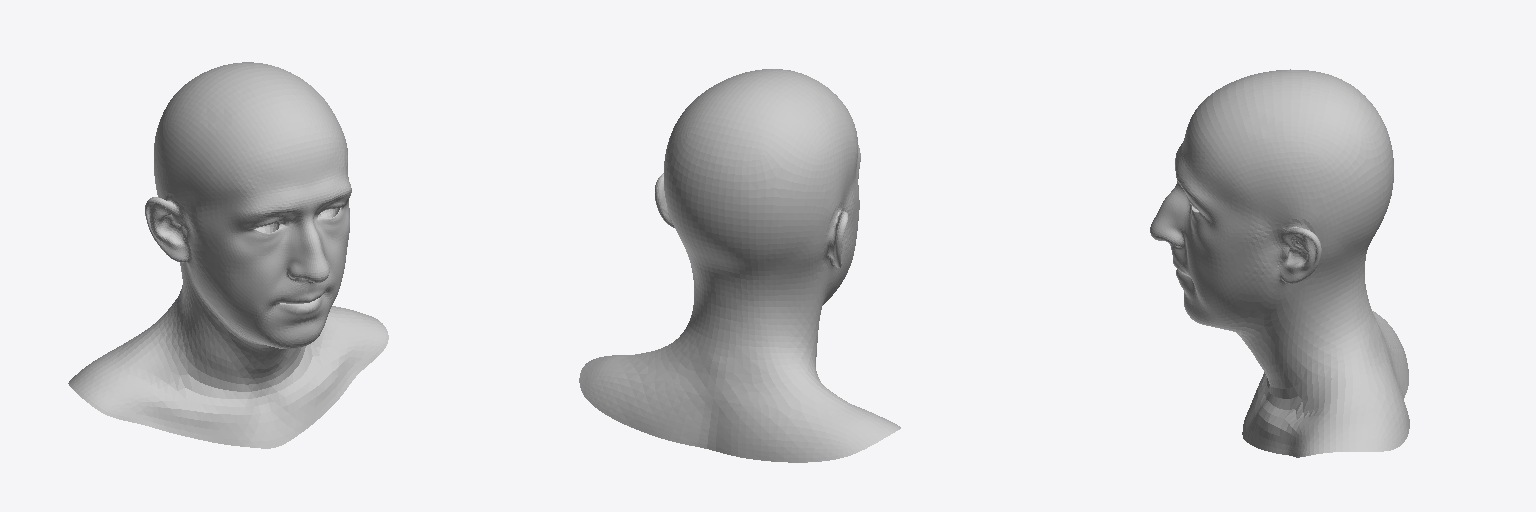
The model's file is 80_no_pose.obj.
The picture shows the model from 3 angles: view 1: azimuth 30°, elevation 25°; view 2: azimuth 150°, elevation 25°; view 3: azimuth 270°, elevation 25°; orthographic projection.
Bounding box in the file's own units: 2.95 × 3.31 × 2.19.